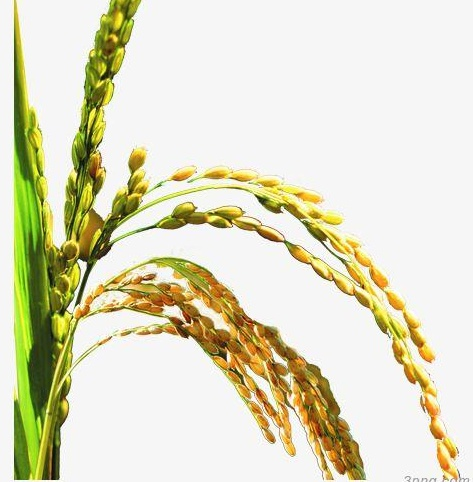rice: (114, 144, 461, 473), (85, 256, 364, 482)
